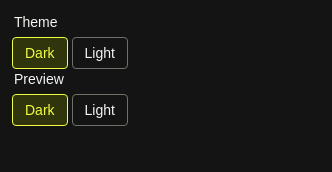
Test: component behavior › keeps separate segmented controls independent
Click the radio button labelled "Light" below "Theme": (100, 53) [72,37,128,69]
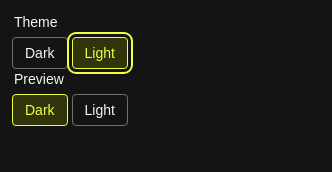
Check: the radio button labelled "Dark" below "Preview" is checked, box [12,94,68,126]
Check: the radio button labelled "Light" below "Theme" is checked, box [72,37,128,69]
